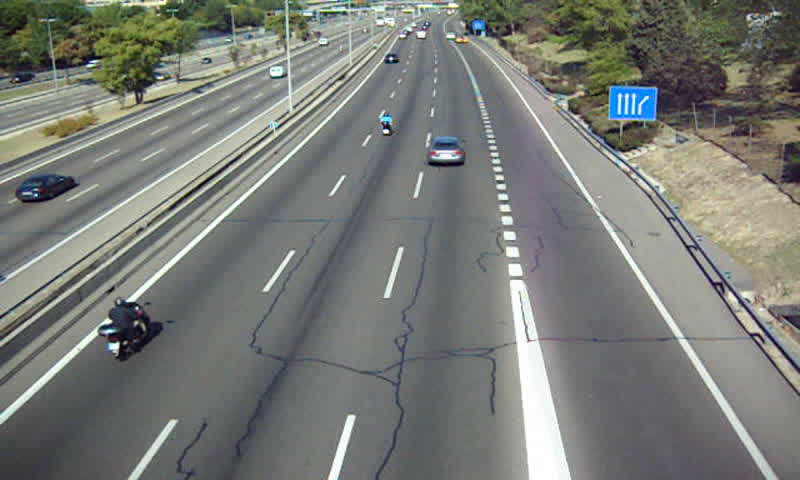car: (426, 136, 465, 165), (383, 53, 399, 65)
motorcycle: (97, 297, 149, 360), (380, 113, 395, 138)
